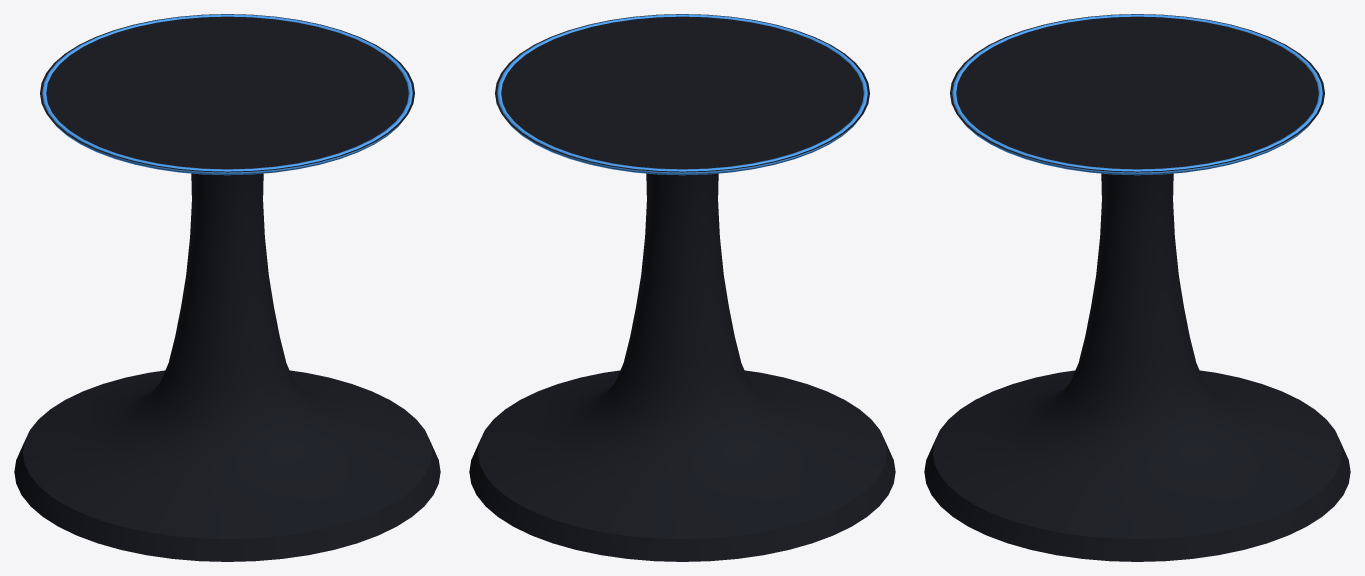
Rendered from terraviz-stem-high.dae.
3 renders of one model, left to right at view 1: azimuth 30°, elevation 25°; view 2: azimuth 150°, elevation 25°; view 3: azimuth 270°, elevation 25°, orthographic.
Parts seen in each view (by area): view 1: terraviz-stem; view 2: terraviz-stem; view 3: terraviz-stem.
Boxes of the visible parts, x1,y1,x2,y2 form: terraviz-stem: (14, 14, 440, 561); terraviz-stem: (469, 14, 895, 561); terraviz-stem: (924, 14, 1350, 561).
Bounding box in the file's own units: 1 × 1 × 0.9821.
